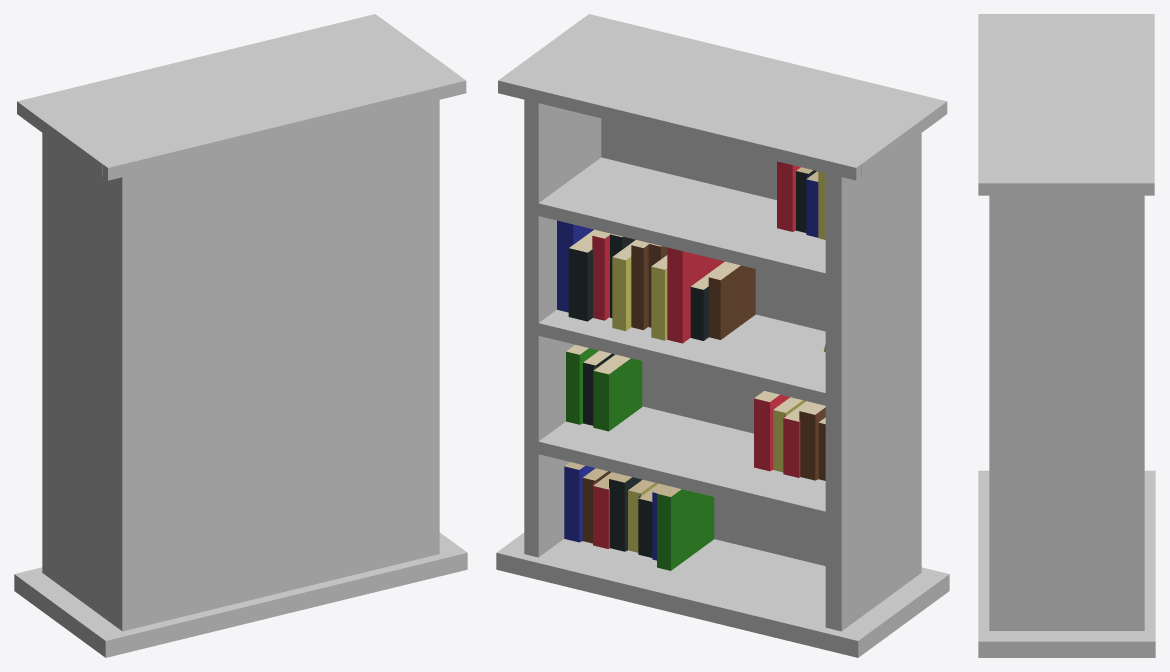
Rendered from bookshelf.fbx.
The picture shows the model from 3 angles, left to right: view 1: azimuth 30°, elevation 25°; view 2: azimuth 150°, elevation 25°; view 3: azimuth 270°, elevation 25°; orthographic projection. The views are drawn at different scales.
Parts seen in each view (by area): view 1: Bookshelf; view 2: Bookshelf, row3, row1, row2, row4; view 3: Bookshelf.
Boxes of the visible parts, x1,y1,x2,y2 form: Bookshelf: (14,14,467,657); Bookshelf: (496,14,949,657); row3: (557,220,825,352); row1: (564,462,714,570); row2: (566,345,825,480); row4: (777,161,825,239); Bookshelf: (978,14,1155,657).
Size of the model in its own units: 1017 by 1314 by 445.
